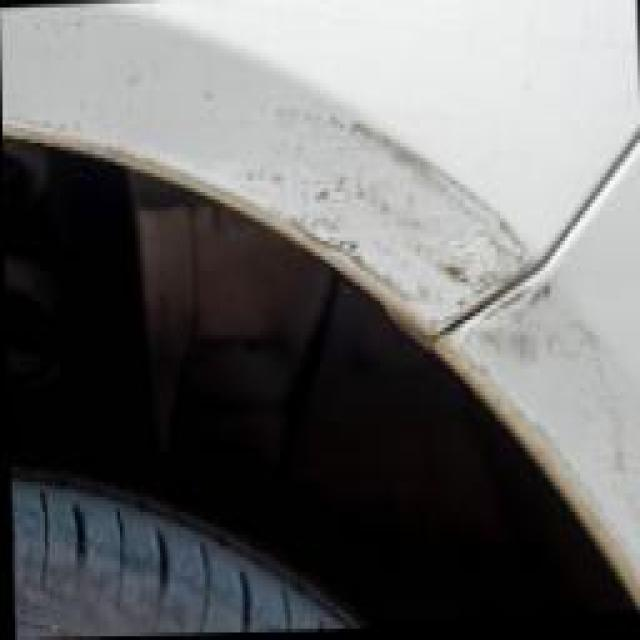Bumper: (478, 305, 640, 504)
Fender: (8, 0, 490, 342)
